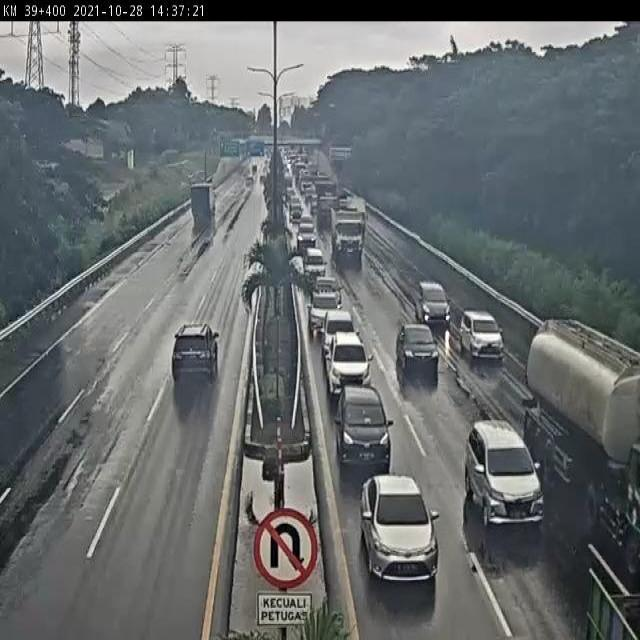big truck: (525, 320, 640, 573), (328, 201, 365, 259)
car: (360, 471, 443, 585), (467, 416, 546, 533), (334, 388, 394, 472), (324, 329, 377, 399), (170, 323, 223, 381), (396, 323, 441, 384), (457, 308, 507, 360), (412, 280, 454, 325), (304, 288, 342, 336), (320, 308, 358, 348), (315, 274, 344, 306), (303, 248, 329, 281), (296, 221, 316, 248)
small truck: (189, 182, 220, 222)
